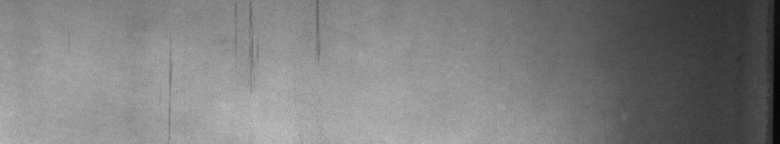ka: (235, 4, 320, 68)
